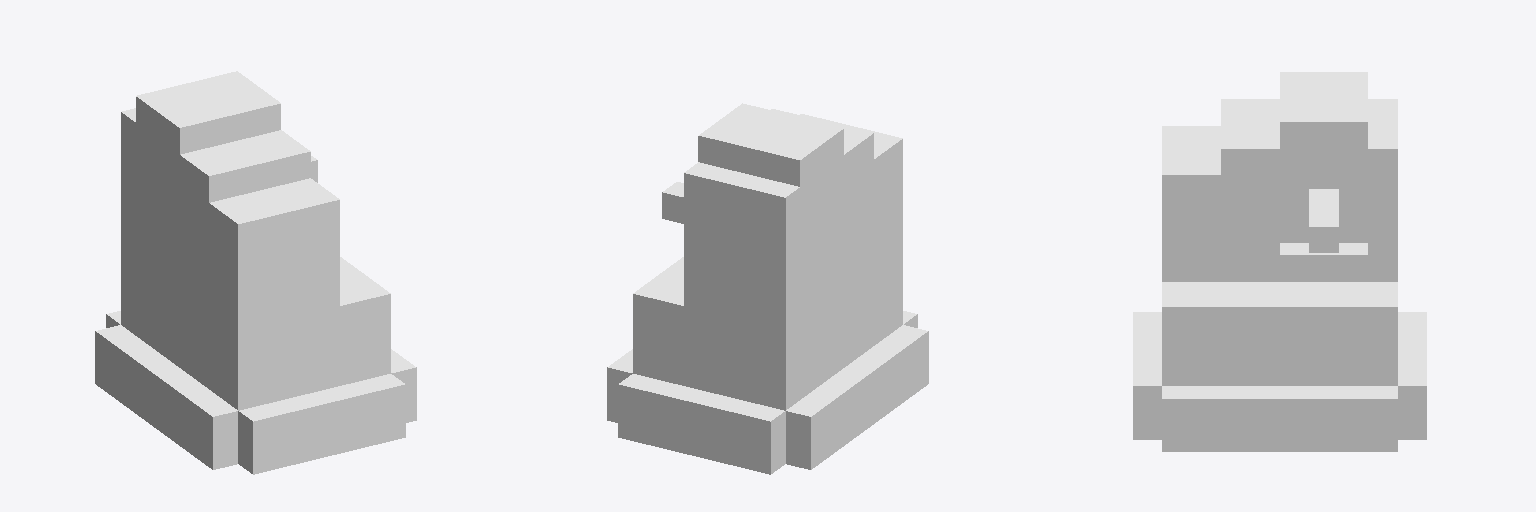
The model's file is CarGateBarStand.obj.
3 renders of one model, left to right at view 1: azimuth 30°, elevation 25°; view 2: azimuth 150°, elevation 25°; view 3: azimuth 270°, elevation 25°, orthographic.
Parts seen in each view (by area): view 1: object 1; view 2: object 1; view 3: object 1.
Boxes of the visible parts, <box> form: object 1: <box>95,71,416,474</box>; object 1: <box>607,103,928,474</box>; object 1: <box>1133,72,1426,451</box>.
Bounding box in the file's own units: 0.8 × 1.1 × 1.